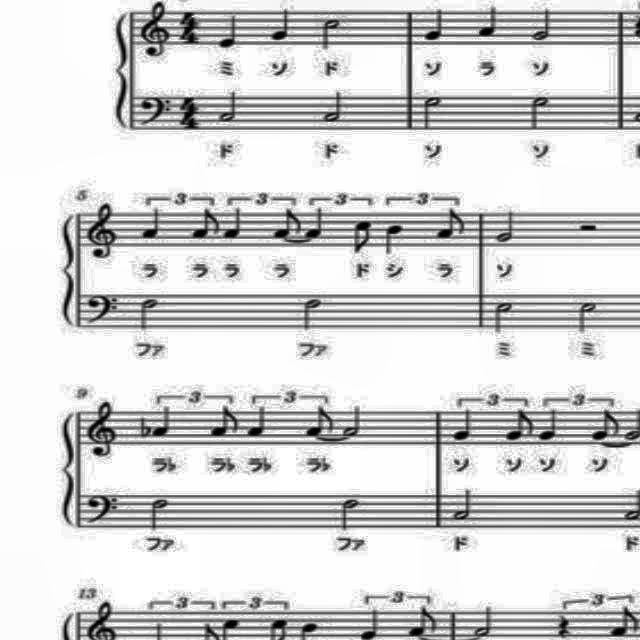Bass-clef: (81, 488, 123, 532), (132, 90, 176, 128), (80, 291, 124, 329)
Eighth-note: (402, 604, 442, 640), (604, 602, 640, 640), (502, 403, 534, 445), (268, 203, 304, 240), (588, 407, 624, 443), (301, 403, 335, 441), (206, 404, 240, 440), (436, 205, 468, 243), (345, 216, 375, 256), (188, 206, 220, 242)
Half-note: (484, 294, 520, 338), (333, 494, 371, 534), (448, 484, 484, 524), (572, 295, 604, 337), (136, 292, 164, 336), (492, 206, 522, 247), (146, 496, 178, 534), (299, 294, 329, 334), (337, 402, 368, 440), (216, 86, 244, 126), (316, 18, 344, 54), (531, 6, 557, 42), (322, 86, 346, 125), (470, 603, 494, 640), (529, 92, 551, 132), (421, 94, 444, 132)
Half-rest: (576, 218, 604, 236)
Quarter-note: (348, 604, 388, 640), (446, 407, 479, 445), (214, 10, 243, 50), (148, 402, 176, 443), (534, 407, 564, 443), (138, 205, 166, 243), (300, 204, 328, 242), (420, 3, 448, 41), (245, 405, 271, 443), (476, 0, 500, 40), (221, 206, 247, 242), (270, 6, 294, 44), (383, 220, 405, 260)
Quarter-rest: (548, 612, 576, 640)
Treble-clef: (84, 199, 122, 263), (82, 398, 120, 460), (136, 0, 172, 62)
